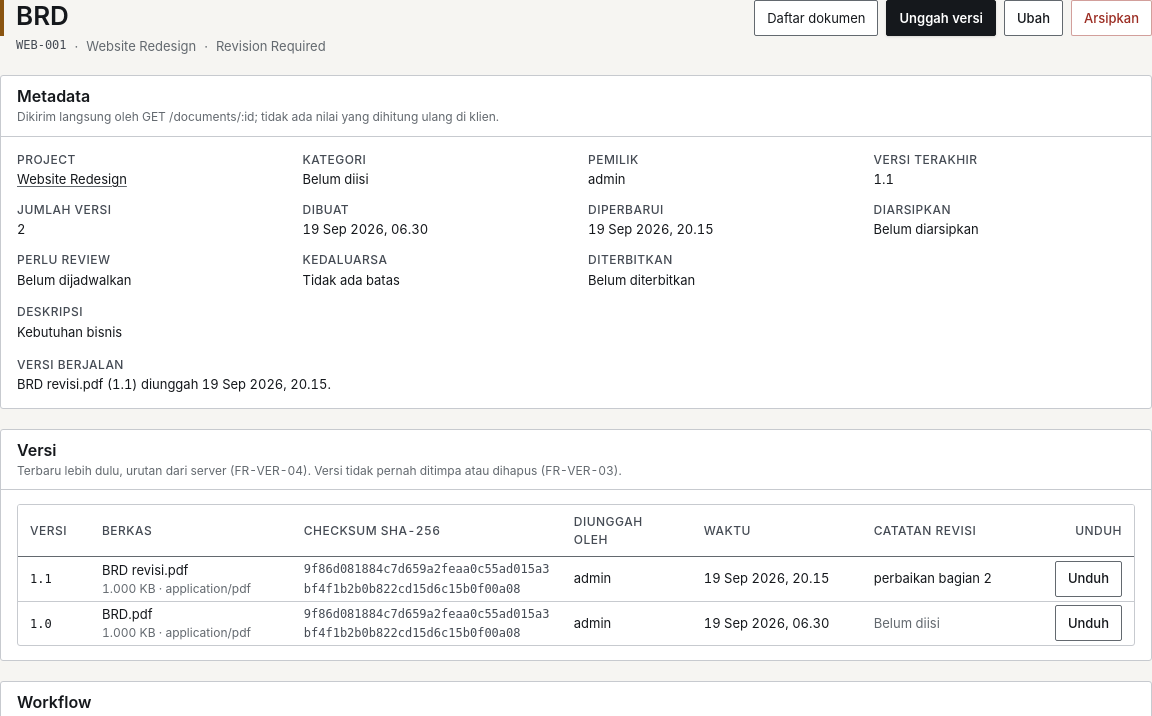
Test case: unduhan berkas › mengambil berkas ber-token lalu menyerahkannya ke peramban
expect the heading "BRD" is shown: met, box [16,0,69,31]
Click the button "Unduh" next to "perbaikan bagian 2".
click(1088, 579)  # box [1055,561,1122,597]
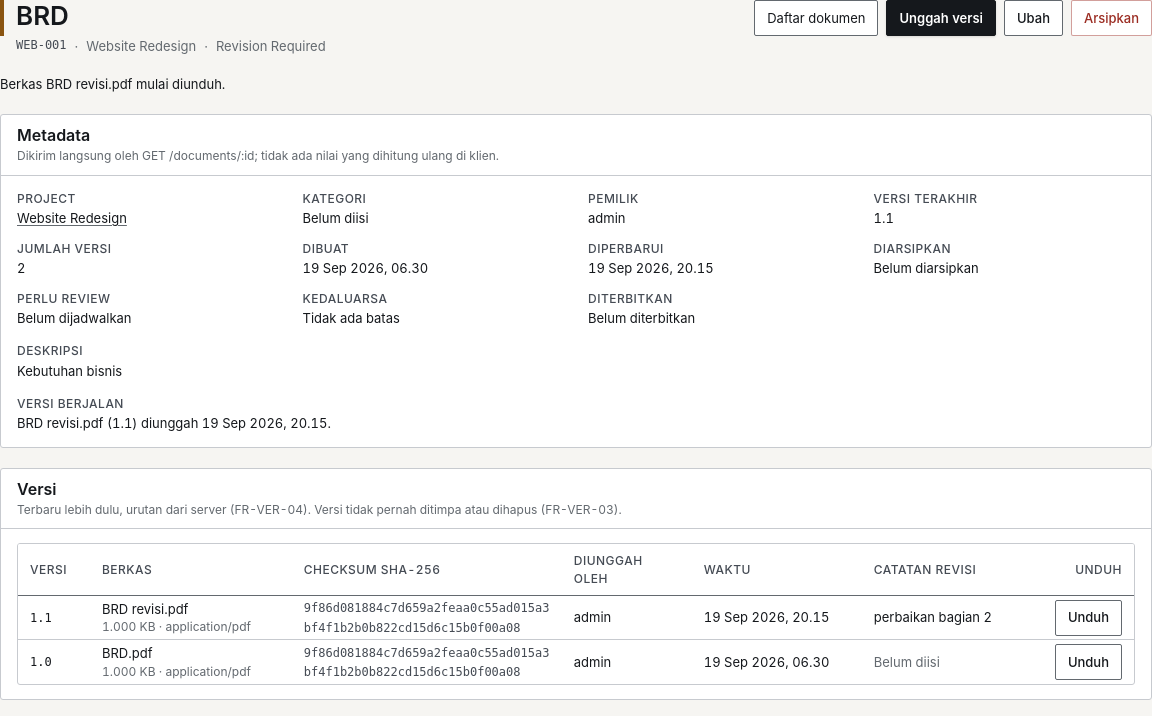
expect the text "Berkas BRD revisi.pdf mulai diunduh." is shown: met, box [0,76,225,92]
